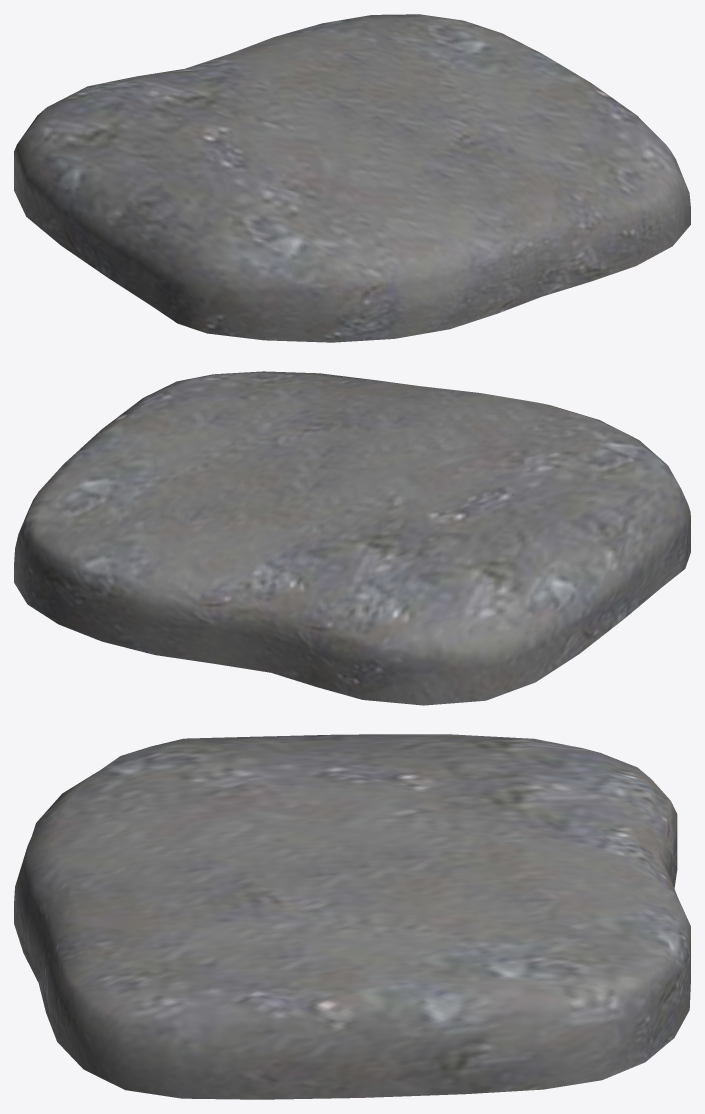
File: SM_Ssang_Dae_Stone.fbx
3 views of the same model, one above another, from view 1: azimuth 30°, elevation 25°; view 2: azimuth 150°, elevation 25°; view 3: azimuth 270°, elevation 25° (orthographic). The views are drawn at different scales.
Visible parts, largest first — view 1: SM_Ssang_Dae_Stone; view 2: SM_Ssang_Dae_Stone; view 3: SM_Ssang_Dae_Stone.
Boxes of the visible parts, x1,y1,x2,y2 form: SM_Ssang_Dae_Stone: [14, 14, 690, 342]; SM_Ssang_Dae_Stone: [14, 371, 690, 705]; SM_Ssang_Dae_Stone: [14, 734, 690, 1099].
Size of the model in its own units: 124 by 20.32 by 120.
